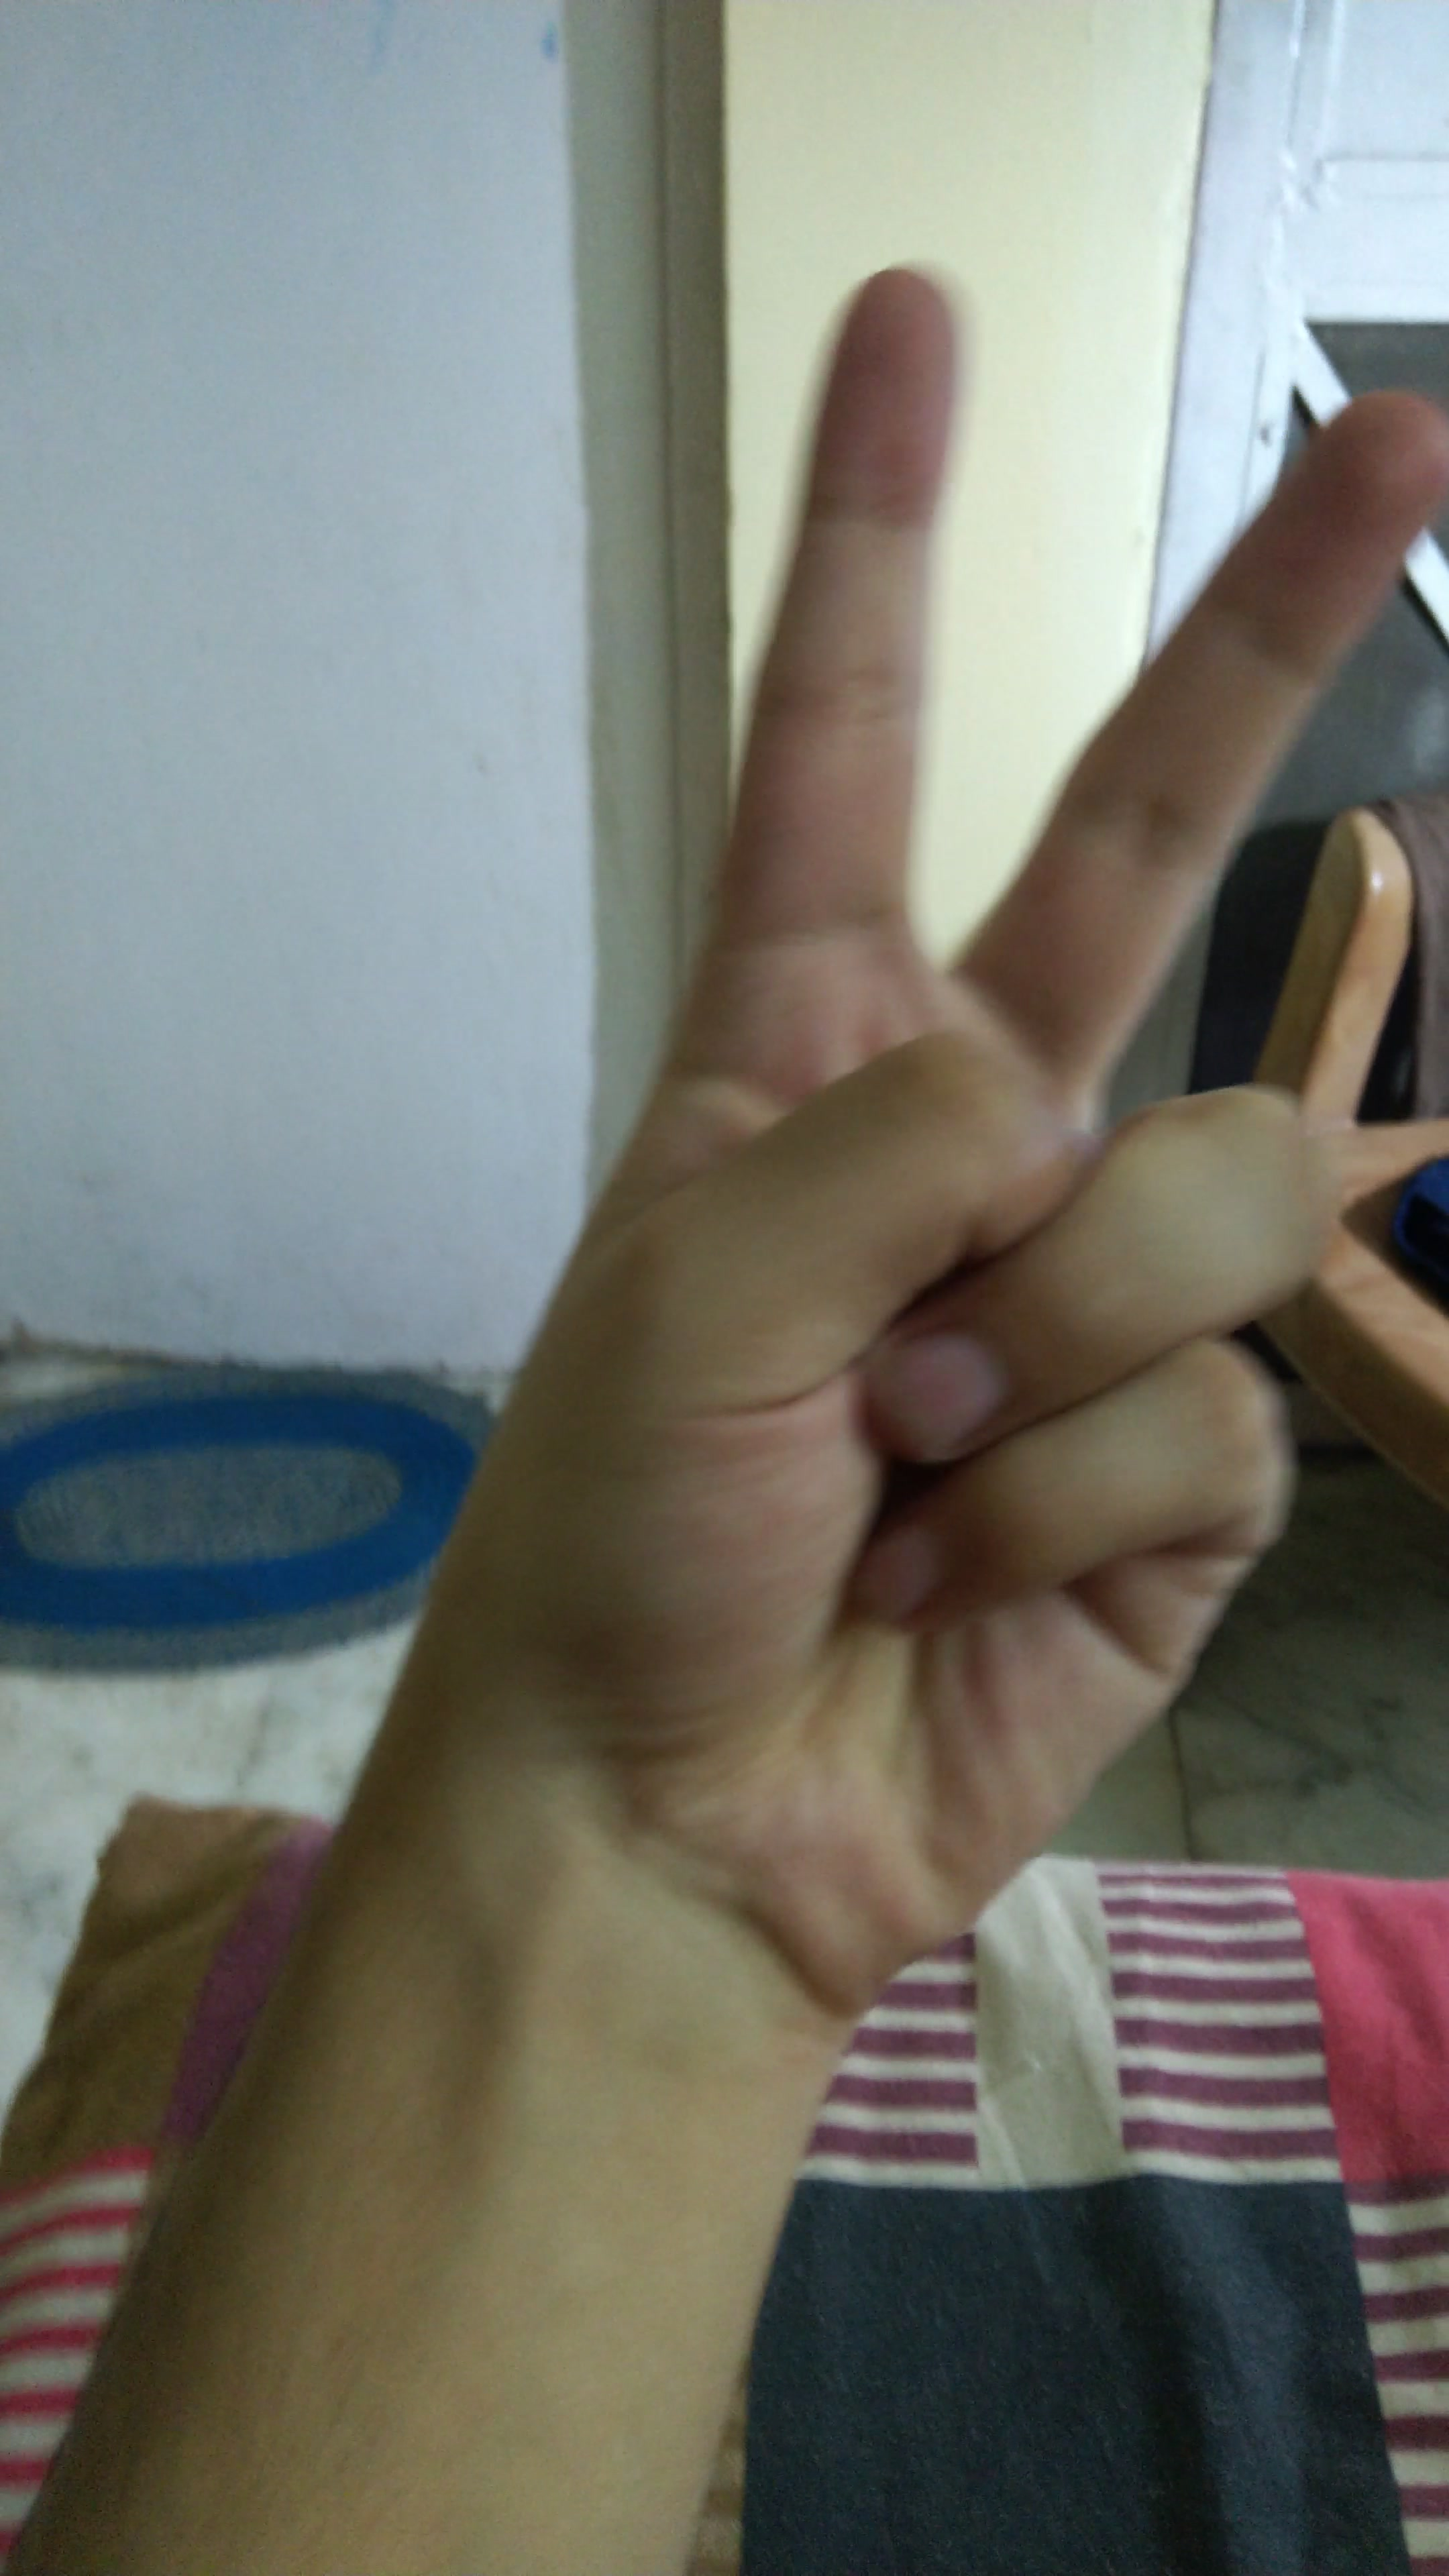hand: (295, 244, 1433, 2026)
